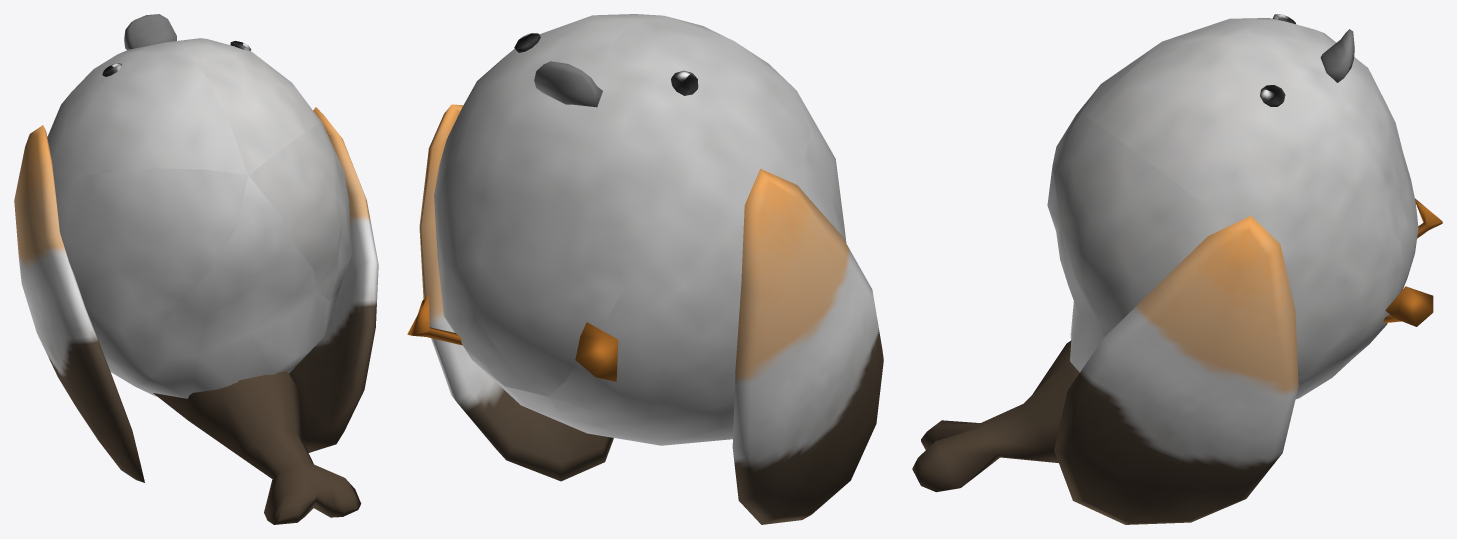
Rendered from H_BirdPlushie.fbx.
3 views of the same model, side by side, from view 1: azimuth 30°, elevation 25°; view 2: azimuth 150°, elevation 25°; view 3: azimuth 270°, elevation 25° (orthographic). The views are drawn at different scales.
Parts seen in each view (by area): view 1: BirdPlushie; view 2: BirdPlushie; view 3: BirdPlushie.
Part boxes in pixels (bbox=[...]): BirdPlushie: bbox=[14, 14, 378, 524]; BirdPlushie: bbox=[407, 14, 883, 524]; BirdPlushie: bbox=[912, 14, 1442, 524].
Bounding box in the file's own units: 50.75 × 61.24 × 65.03.
